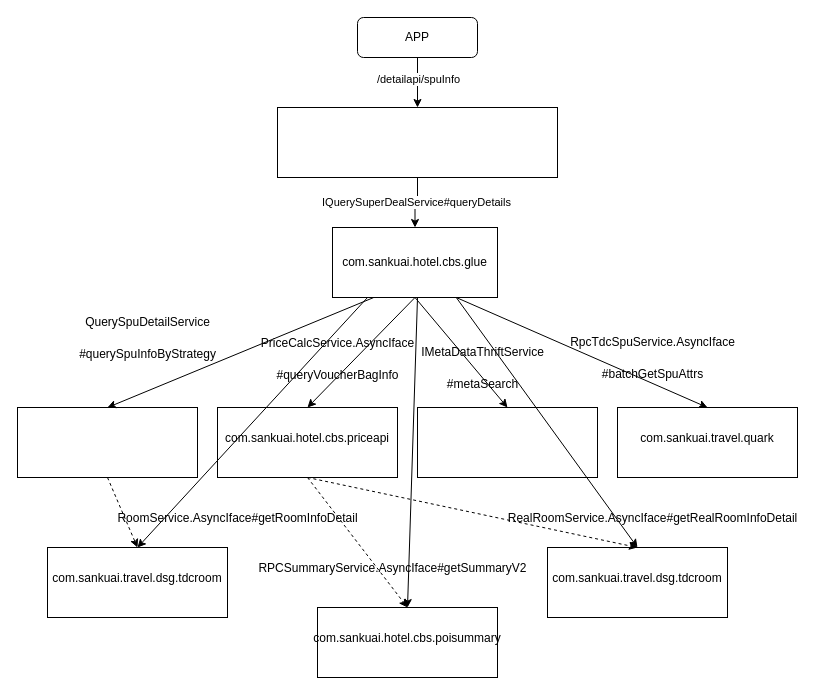
The diagram is 825 pixels wide and 695 high, and some of its shapes have lost their labels. The shapes that lost their labels are listed below. From the top down, each one's centre as x and y in pixels, then its label:
At pixel 417 142: "appKey:com.sankuai.hotel.hotelapi.detailpoi".
At pixel 107 442: "com.sankuai.hotelcrs.goodsquery".
At pixel 507 442: "com.sankuai.hotel.biz.incubator".
